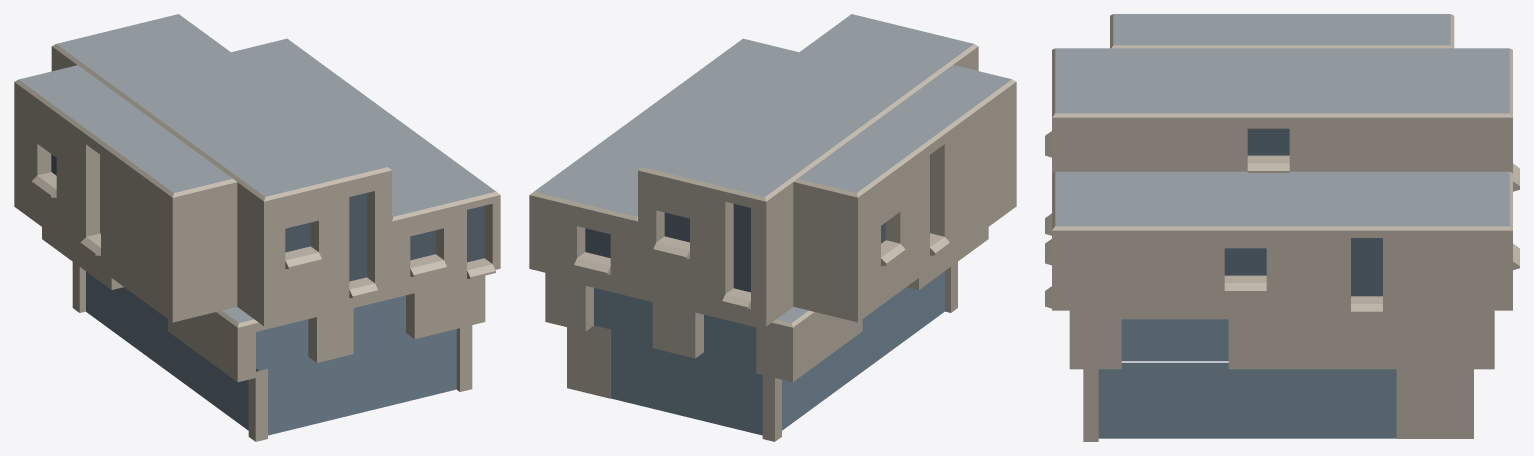
File: atl-central-library.glb
3 renders of one model, left to right at view 1: azimuth 30°, elevation 25°; view 2: azimuth 150°, elevation 25°; view 3: azimuth 270°, elevation 25°, orthographic. The views are drawn at different scales.
Visible parts, largest first — view 1: Atlanta Central Library; view 2: Atlanta Central Library; view 3: Atlanta Central Library.
Part boxes in pixels (<box>): Atlanta Central Library: <box>14,14,500,441</box>; Atlanta Central Library: <box>529,14,1016,441</box>; Atlanta Central Library: <box>1045,14,1519,441</box>.
Bounding box in the file's own units: 51.2 × 40 × 62.1.
